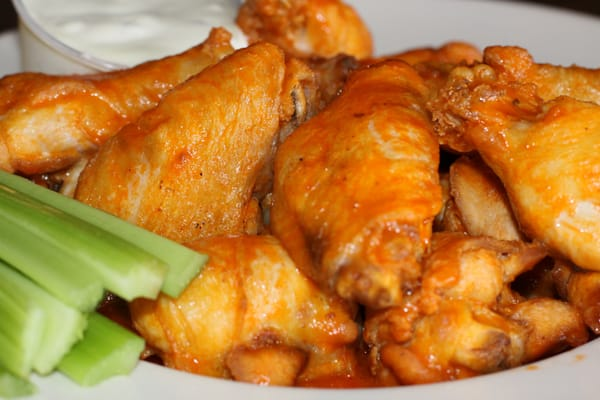sushi: (13, 0, 235, 76)
